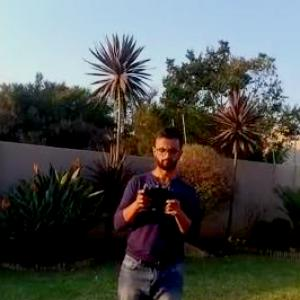follow: (104, 118, 209, 299)
